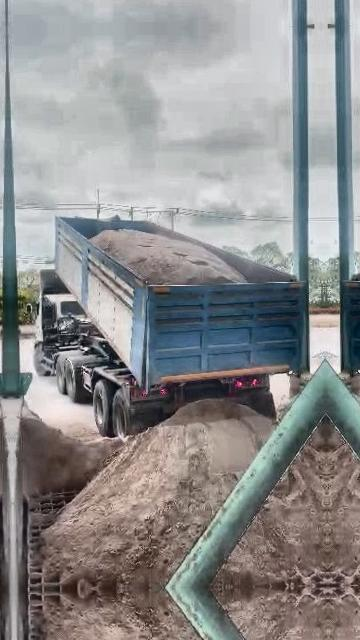sand: (42, 399, 271, 588), (214, 443, 328, 586), (20, 406, 122, 495), (91, 230, 244, 284), (267, 569, 328, 586), (312, 415, 327, 453)
